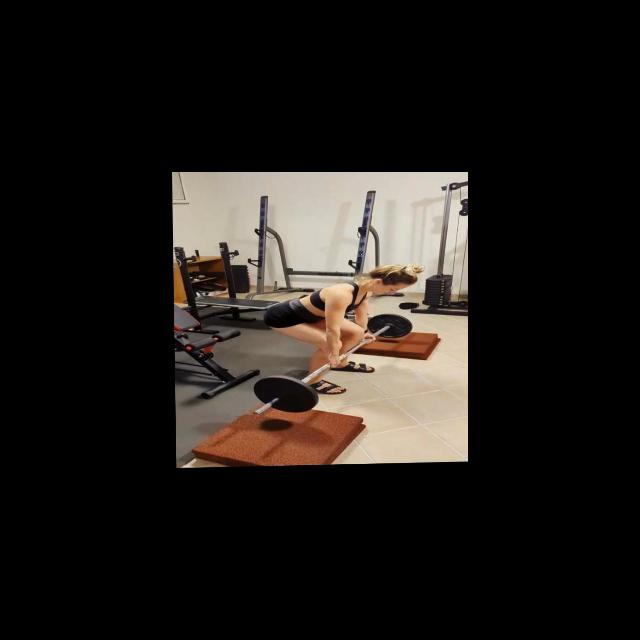barbell: (251, 374, 320, 418)
